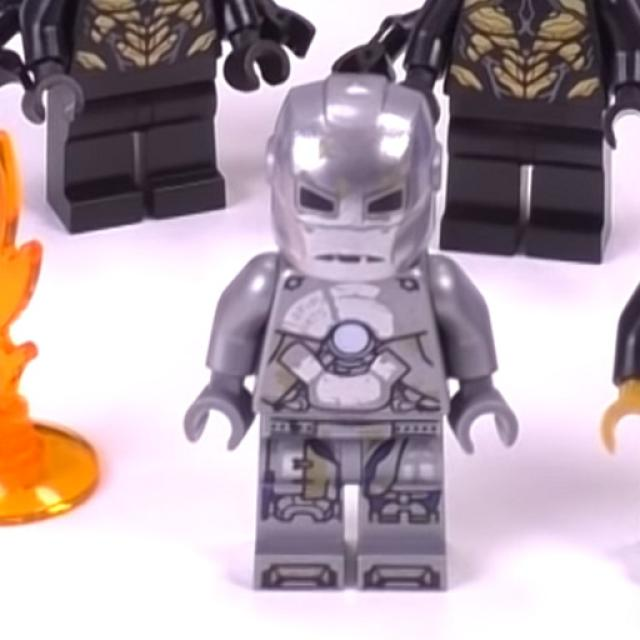Lego-Minifigures: (178, 57, 547, 617), (335, 0, 639, 264), (0, 0, 310, 251)
